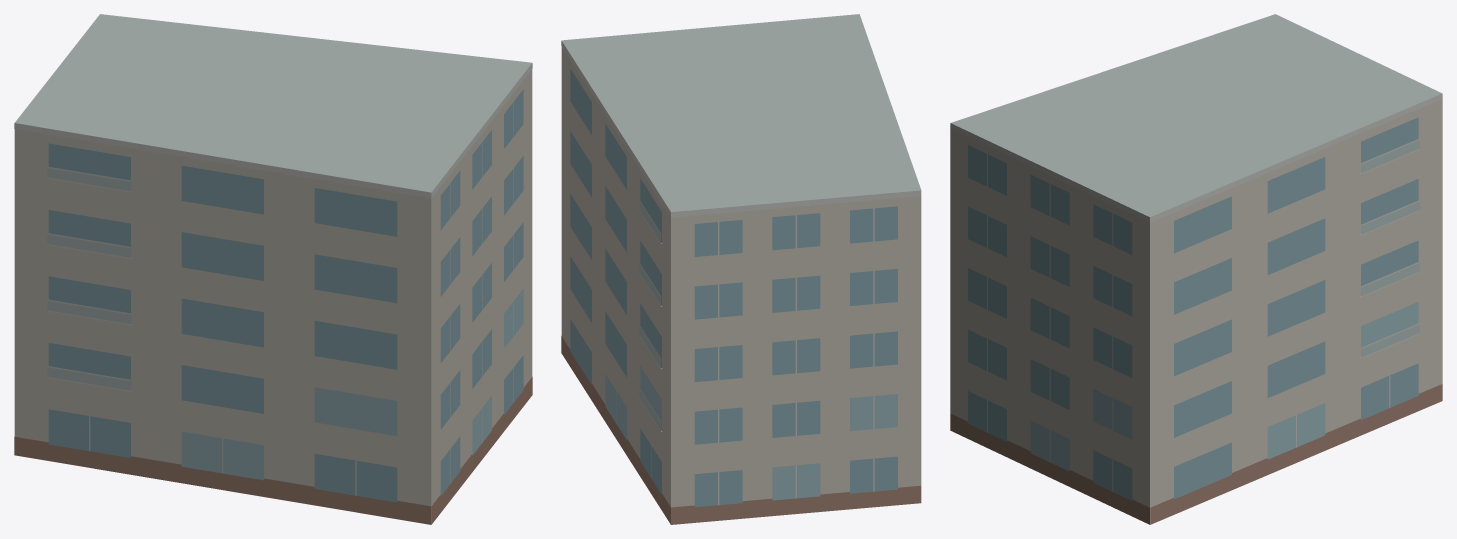
The model's file is survey-upis-32960876.glb.
The picture shows the model from 3 angles, left to right: view 1: azimuth 30°, elevation 25°; view 2: azimuth 150°, elevation 25°; view 3: azimuth 270°, elevation 25°; orthographic projection. The views are drawn at different scales.
Parts seen in each view (by area): view 1: survey-upis-32960876.tmp; view 2: survey-upis-32960876.tmp; view 3: survey-upis-32960876.tmp.
Part boxes in pixels (box(x1,y1,x2,y2)): survey-upis-32960876.tmp: box(14, 14, 532, 524); survey-upis-32960876.tmp: box(561, 14, 921, 524); survey-upis-32960876.tmp: box(950, 14, 1442, 524).
Bounding box in the file's own units: 19.36 × 13.65 × 19.8.
